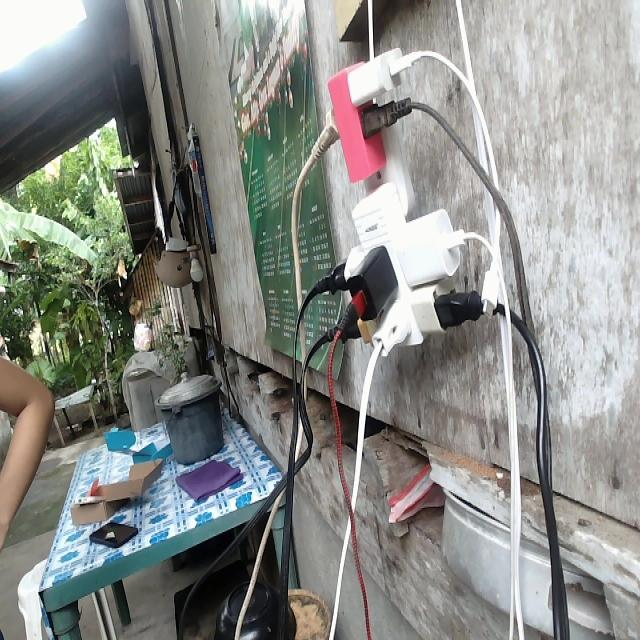-: (304, 46, 475, 354)
